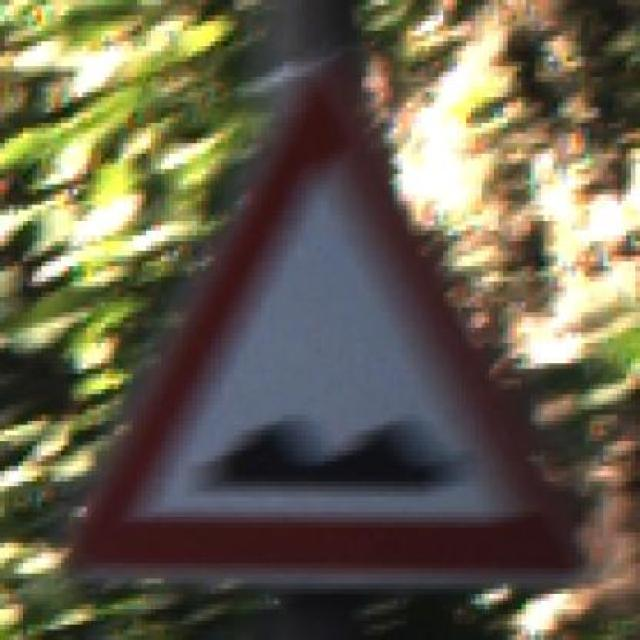Uneven Road: (69, 51, 586, 589)
